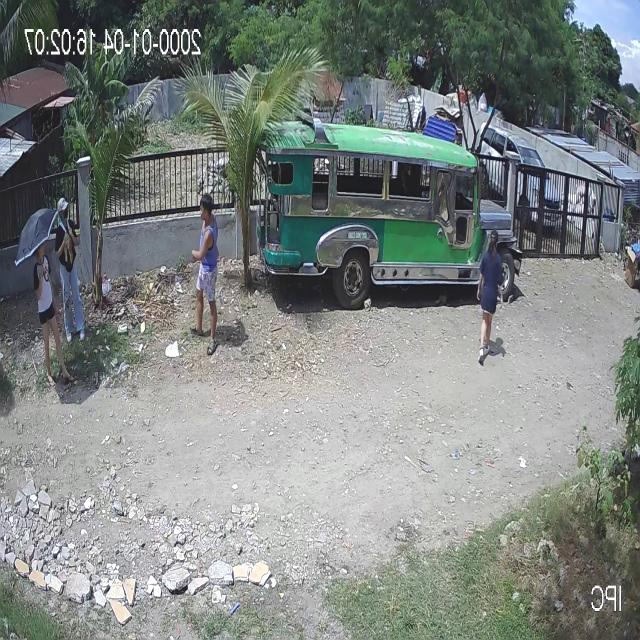standing: (54, 194, 86, 343)
walking: (181, 198, 218, 356), (41, 237, 76, 393), (475, 232, 505, 370)
